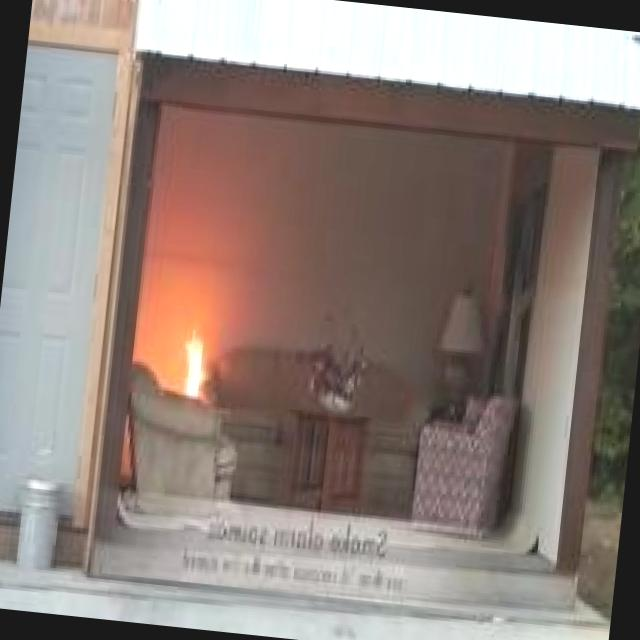fire: (164, 303, 217, 404)
